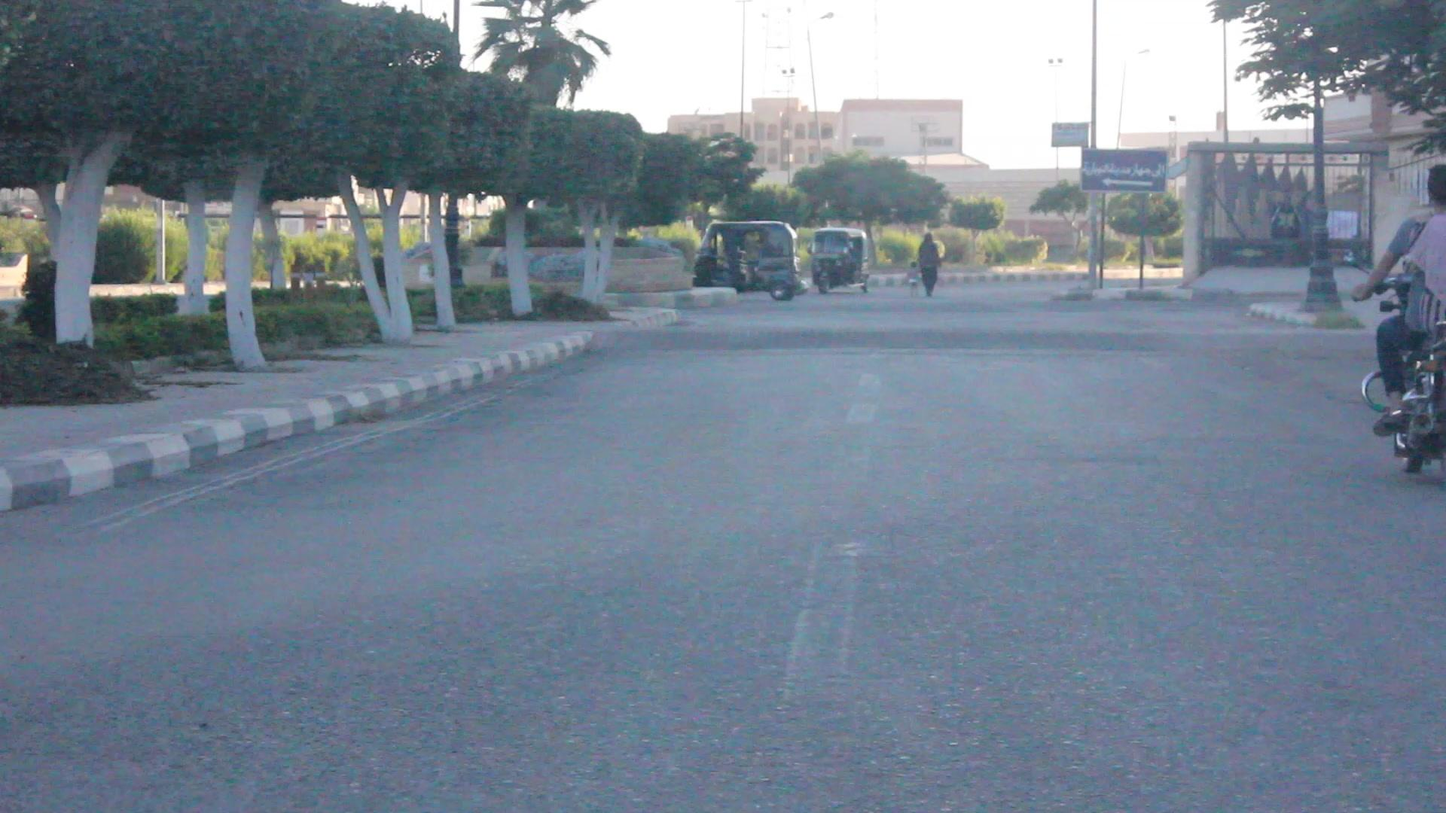Bump: (601, 299, 1286, 380)
